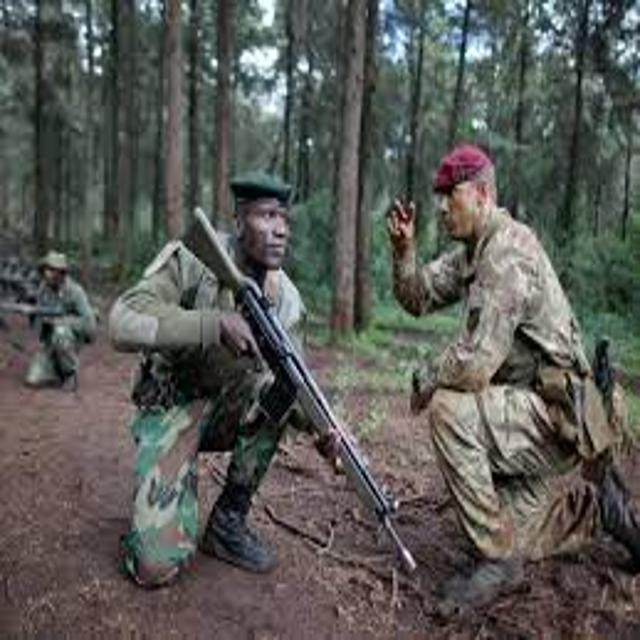gun: (153, 190, 440, 607)
ranger: (338, 120, 640, 624), (79, 139, 368, 601), (4, 228, 122, 422)
